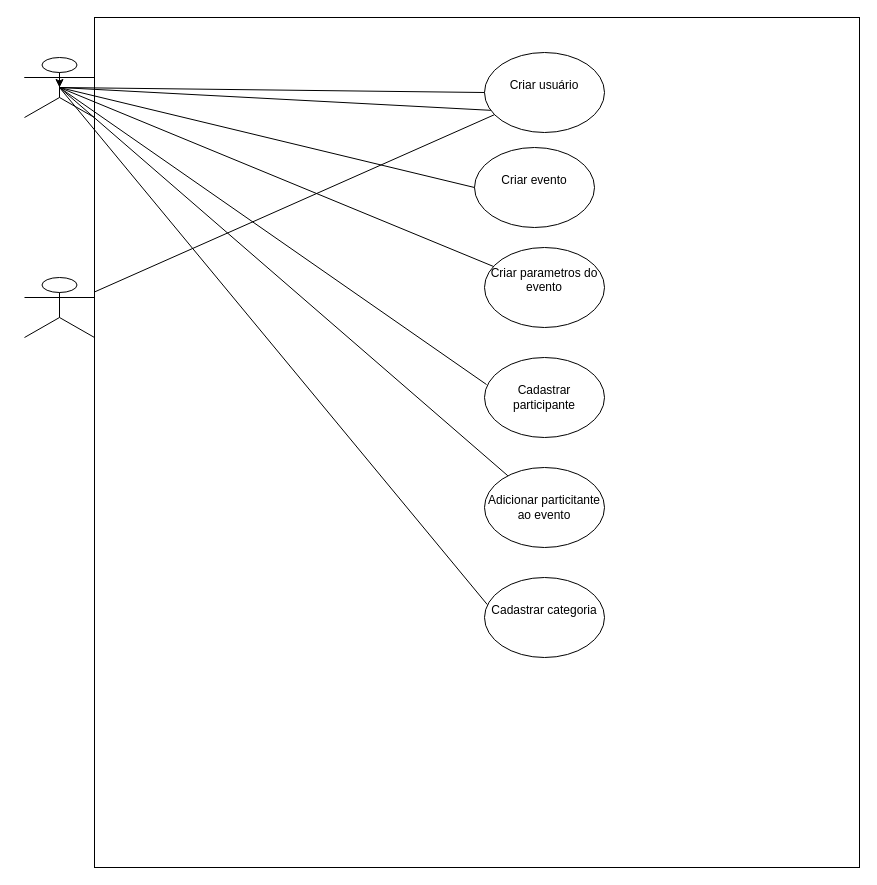
This 877x885 diagram has some shape labels left out. The box of each missing label's shape, as (x1, y1, x2, y2) in pixels:
Adminstrador: (24, 56, 94, 118)
Participante: (24, 276, 94, 338)
